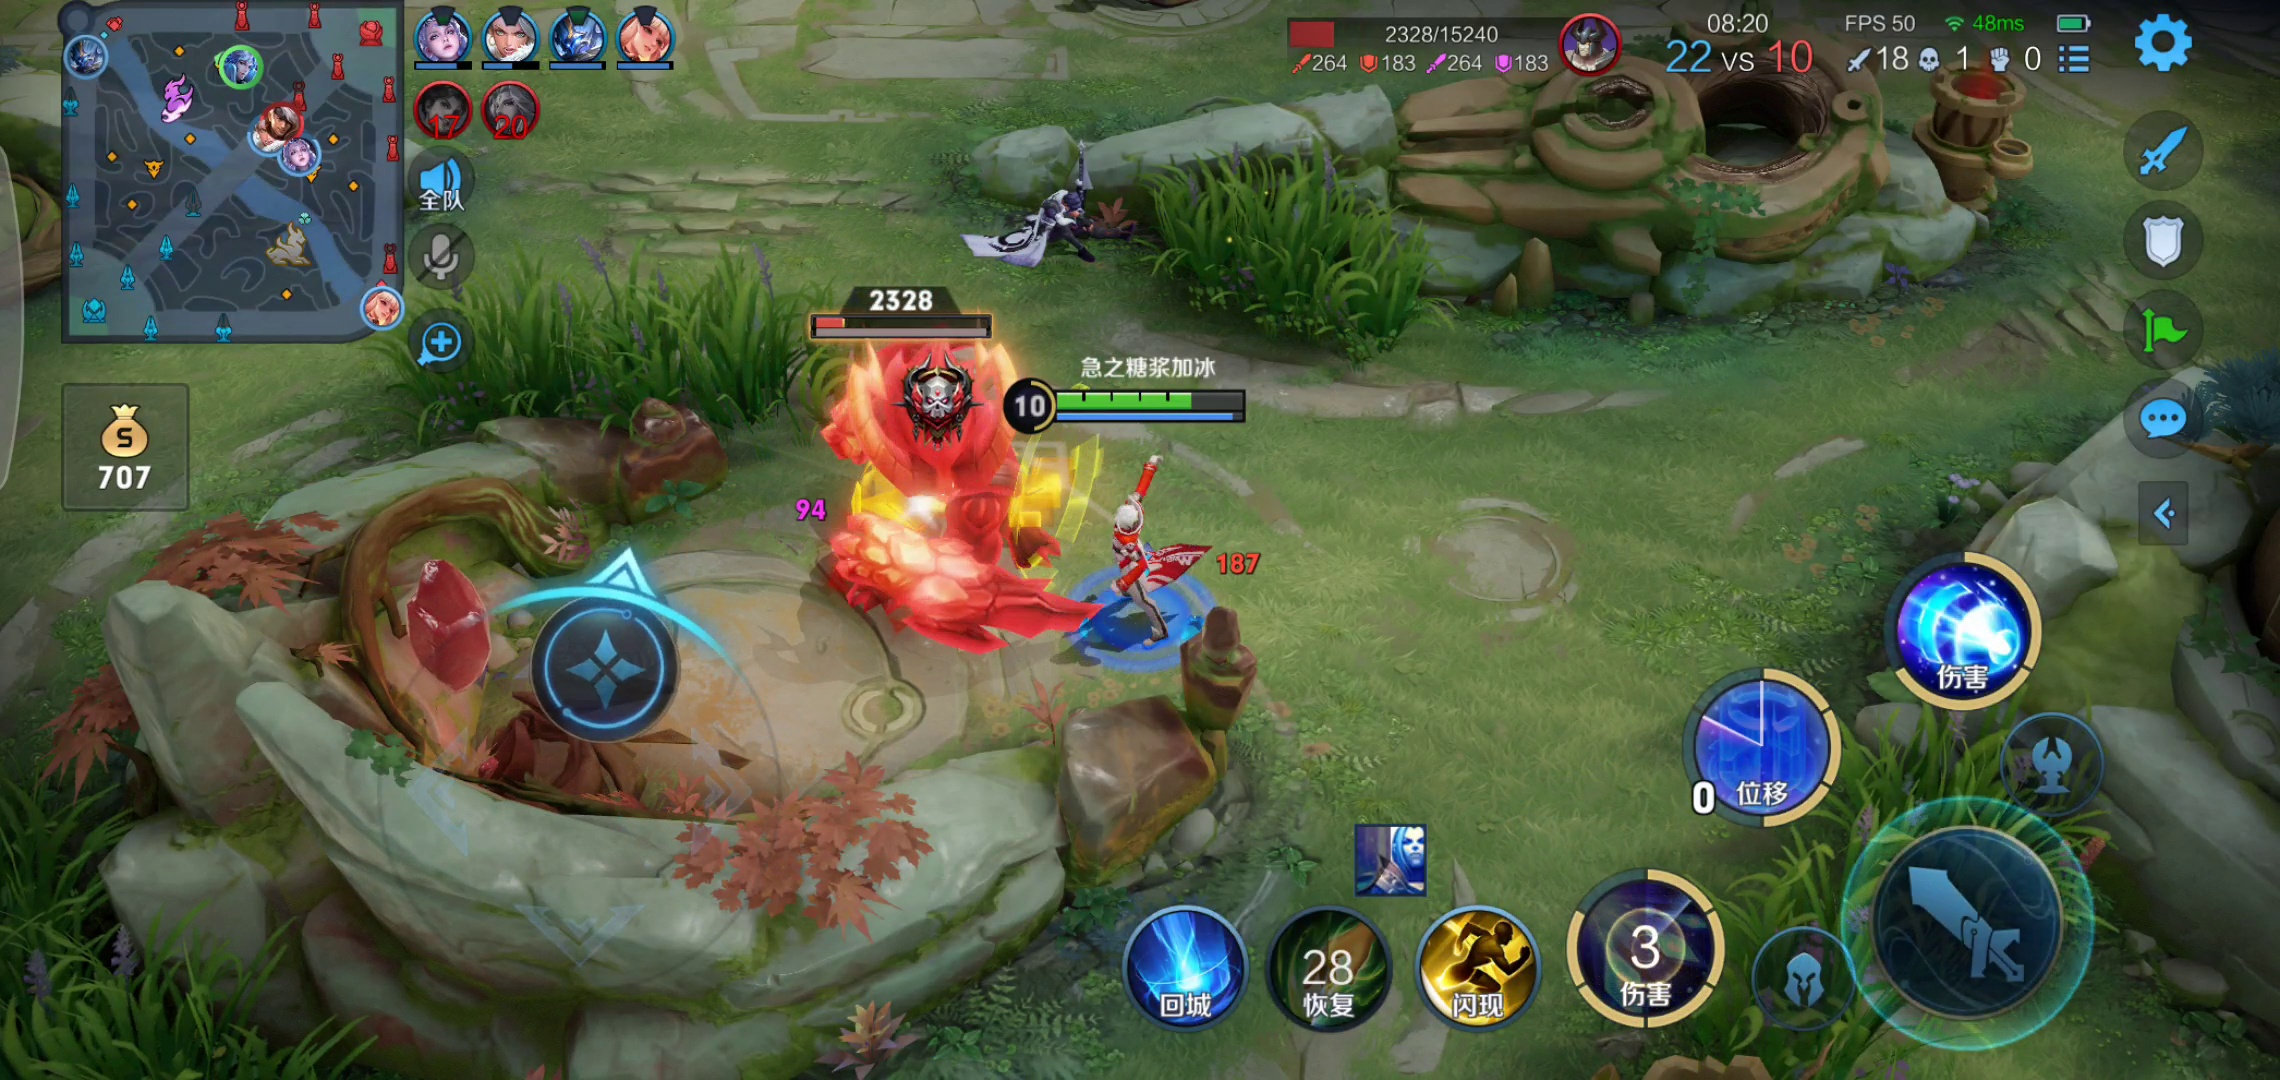buff: (823, 344, 1061, 651)
grass: (1697, 709, 2087, 1025), (4, 740, 323, 1076), (394, 285, 810, 416), (1150, 160, 1426, 347)
hero: (1061, 467, 1219, 664), (950, 153, 1115, 281)
